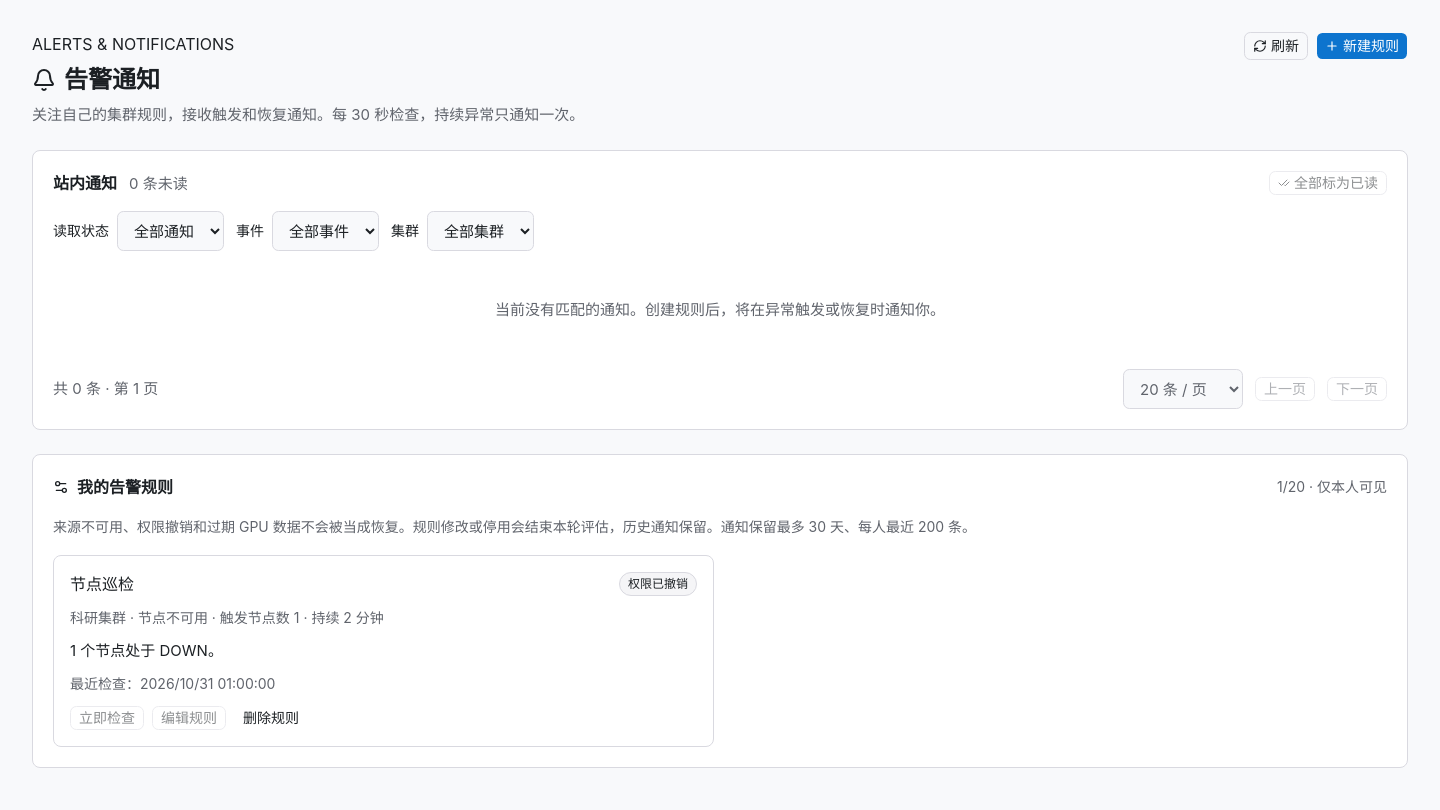
Test: disables reads and edits of revoked rules while allowing owner cleanup
Check: the text "权限已撤销" is shown, box 619,572 -> 697,596
Check: the button "立即检查" is disabled, box 70,706 -> 144,730
Click the button "新建规则" at {"x": 1362, "y": 46}, box 1316,32 -> 1408,60
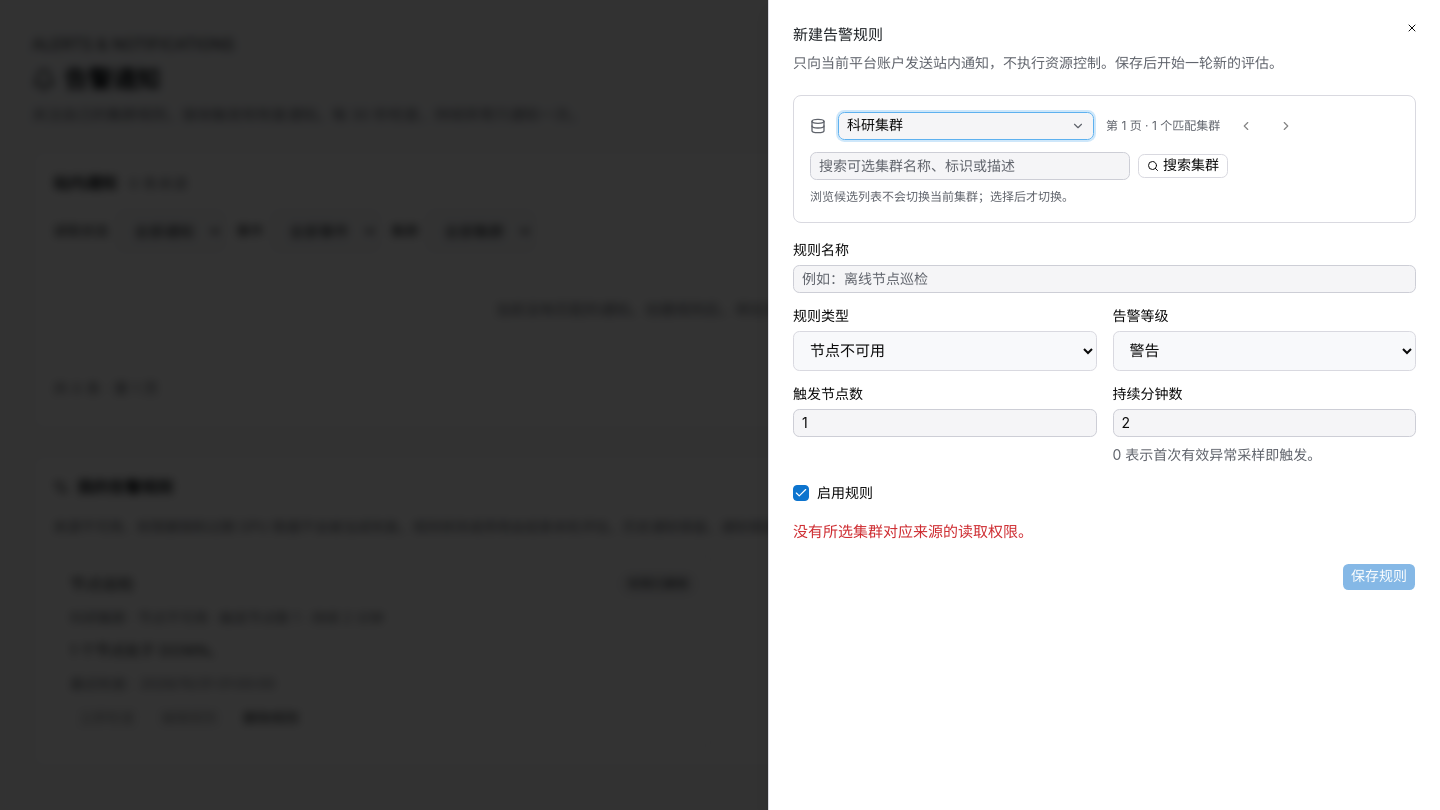
Check: the button "保存规则" is disabled, box 1342,563 -> 1416,591
Check: the message shows "没有所选集群", box 793,522 -> 1033,541
